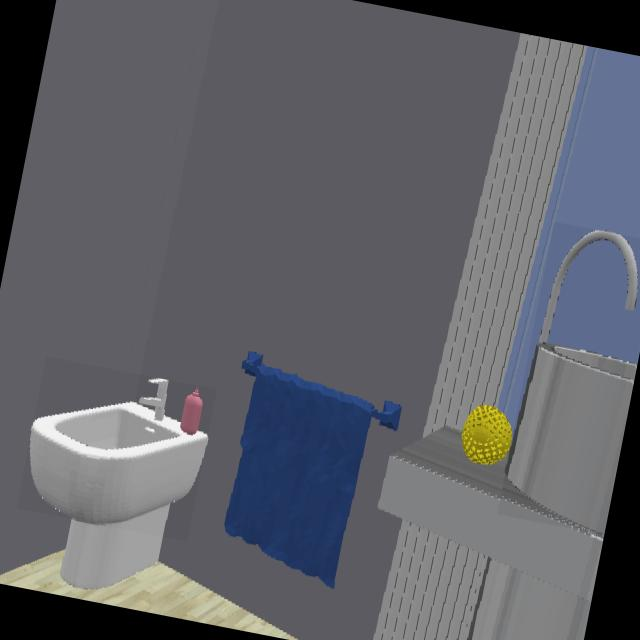washbasin: (506, 231, 638, 534), (31, 381, 207, 524)
